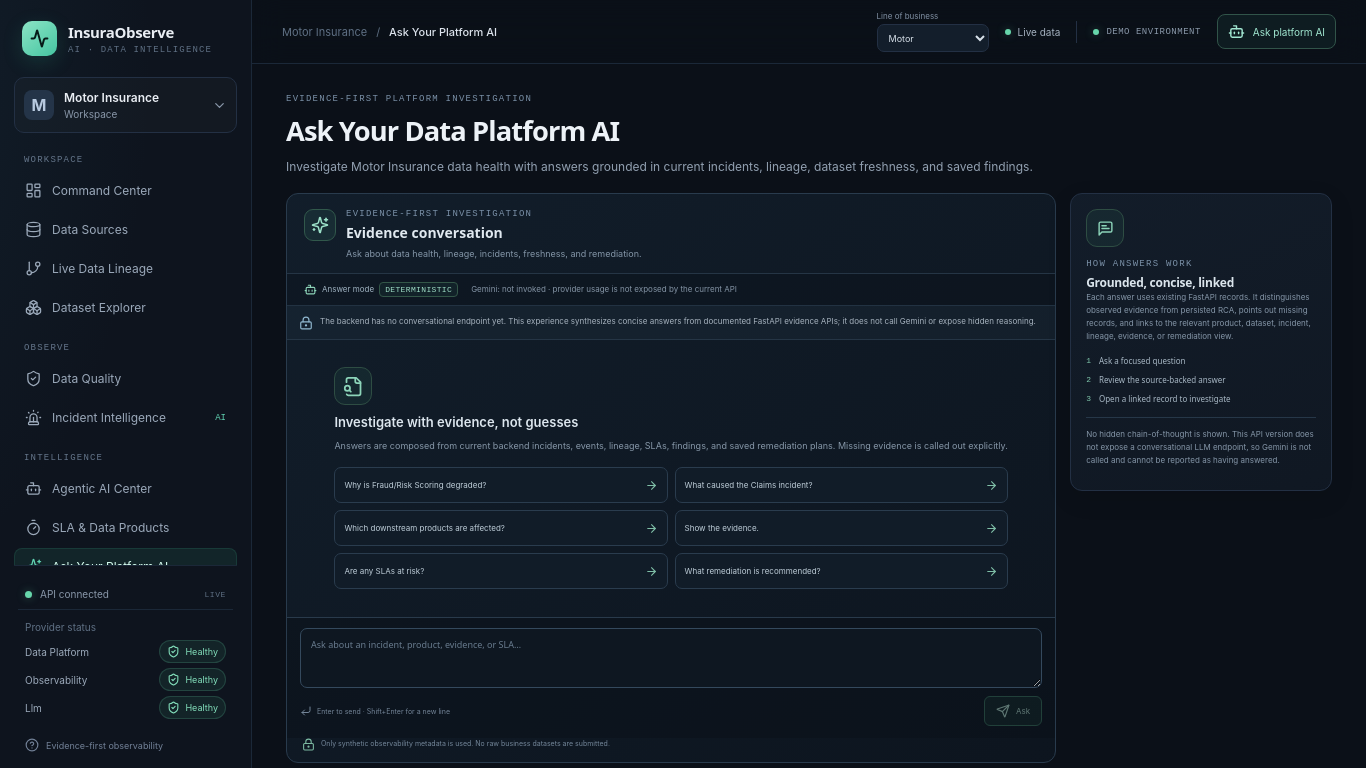
Scenario: frontend route shell › answers incident-cause questions with persisted RCA or evidence-only fallback and links
Check: the heading "Ask Your Data Platform AI" is shown, box [286,112,619,149]
Click the button "What caused the Claims incident?" at (749, 485), box [675,467,1008,503]
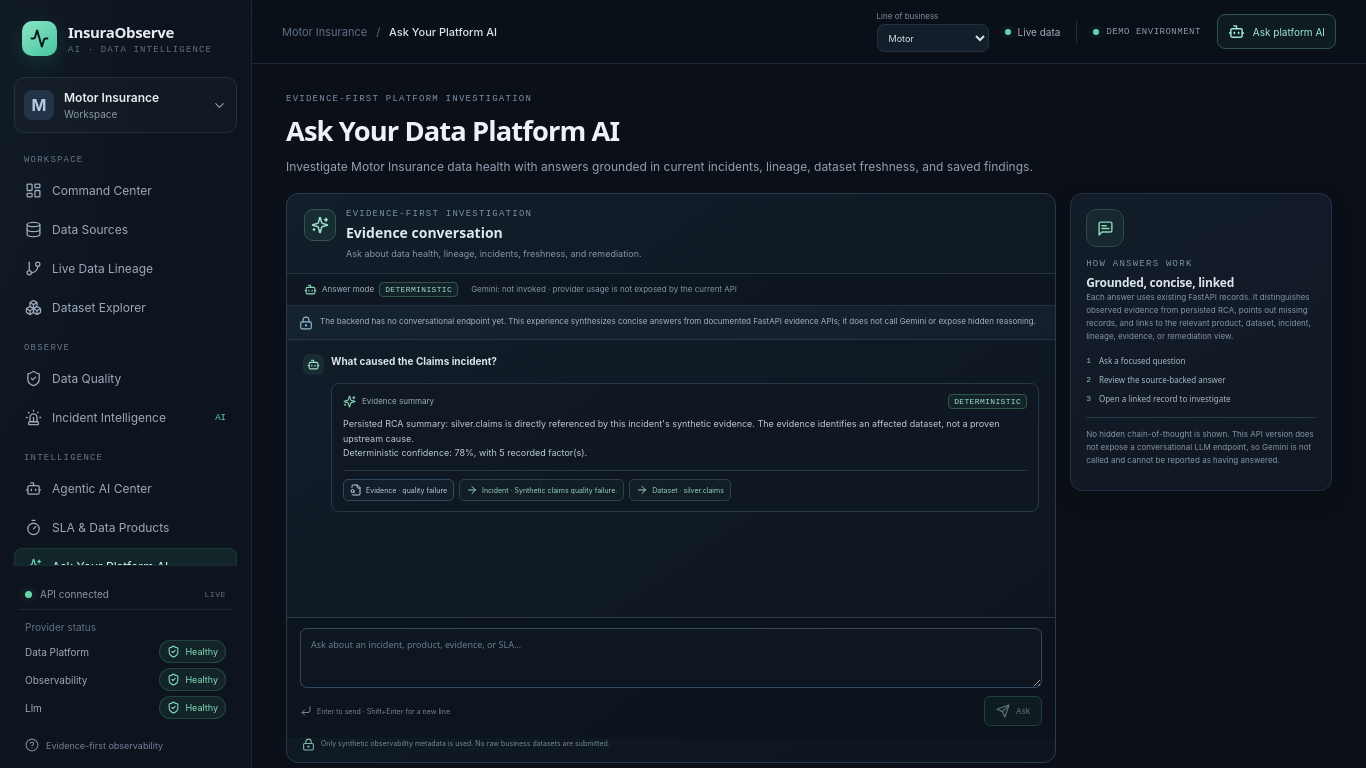
Check: the text "DETERMINISTIC" next to "Answer mode" is shown, box [385,285,452,294]
Check: the text "Persisted RCA summary:" is shown, box [343,418,1000,458]
